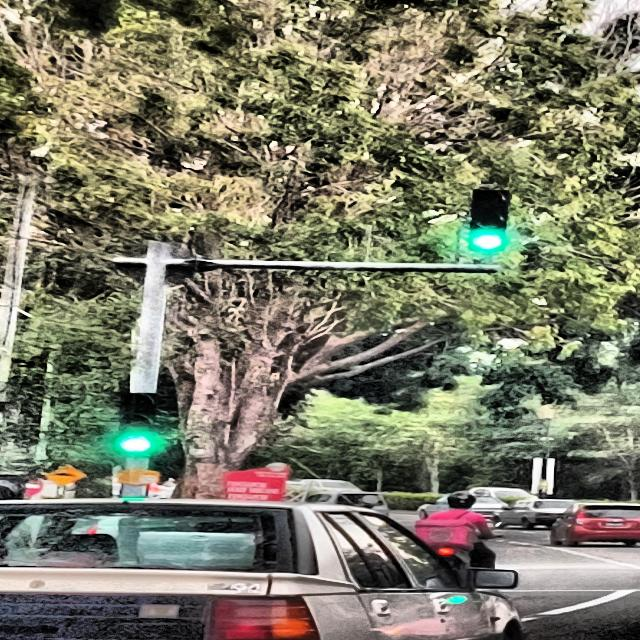green: (470, 189, 507, 252), (120, 394, 156, 454)
